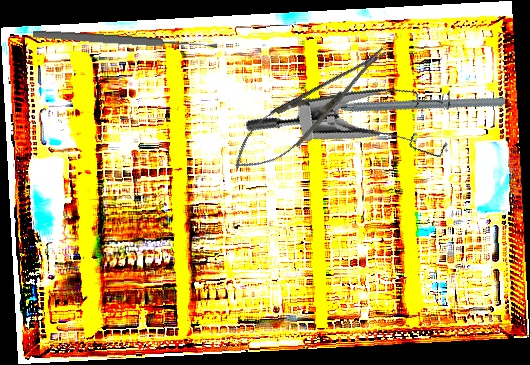Chopper: (301, 33, 507, 185)
Needle Holder: (221, 32, 400, 186)
Speculum: (242, 53, 470, 214)
Surgical Spoon: (32, 28, 218, 53)
